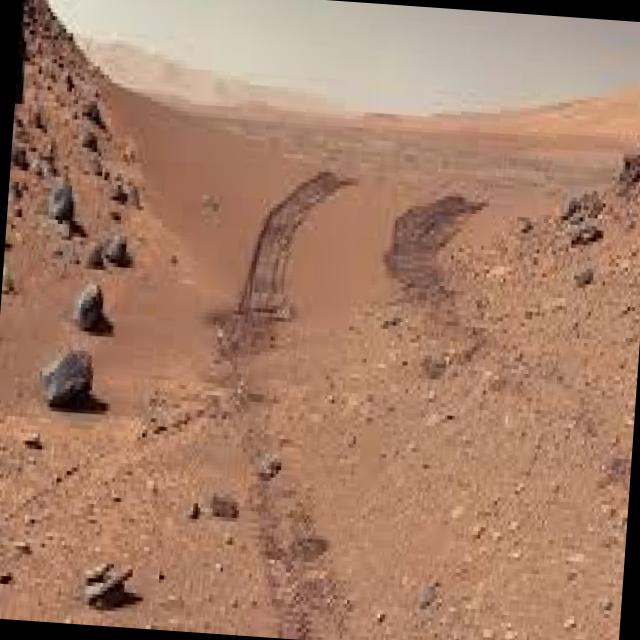red-sand: (0, 91, 640, 640)
rocks: (62, 71, 140, 265), (10, 58, 90, 235)
stone: (39, 349, 91, 404), (73, 281, 106, 328)
